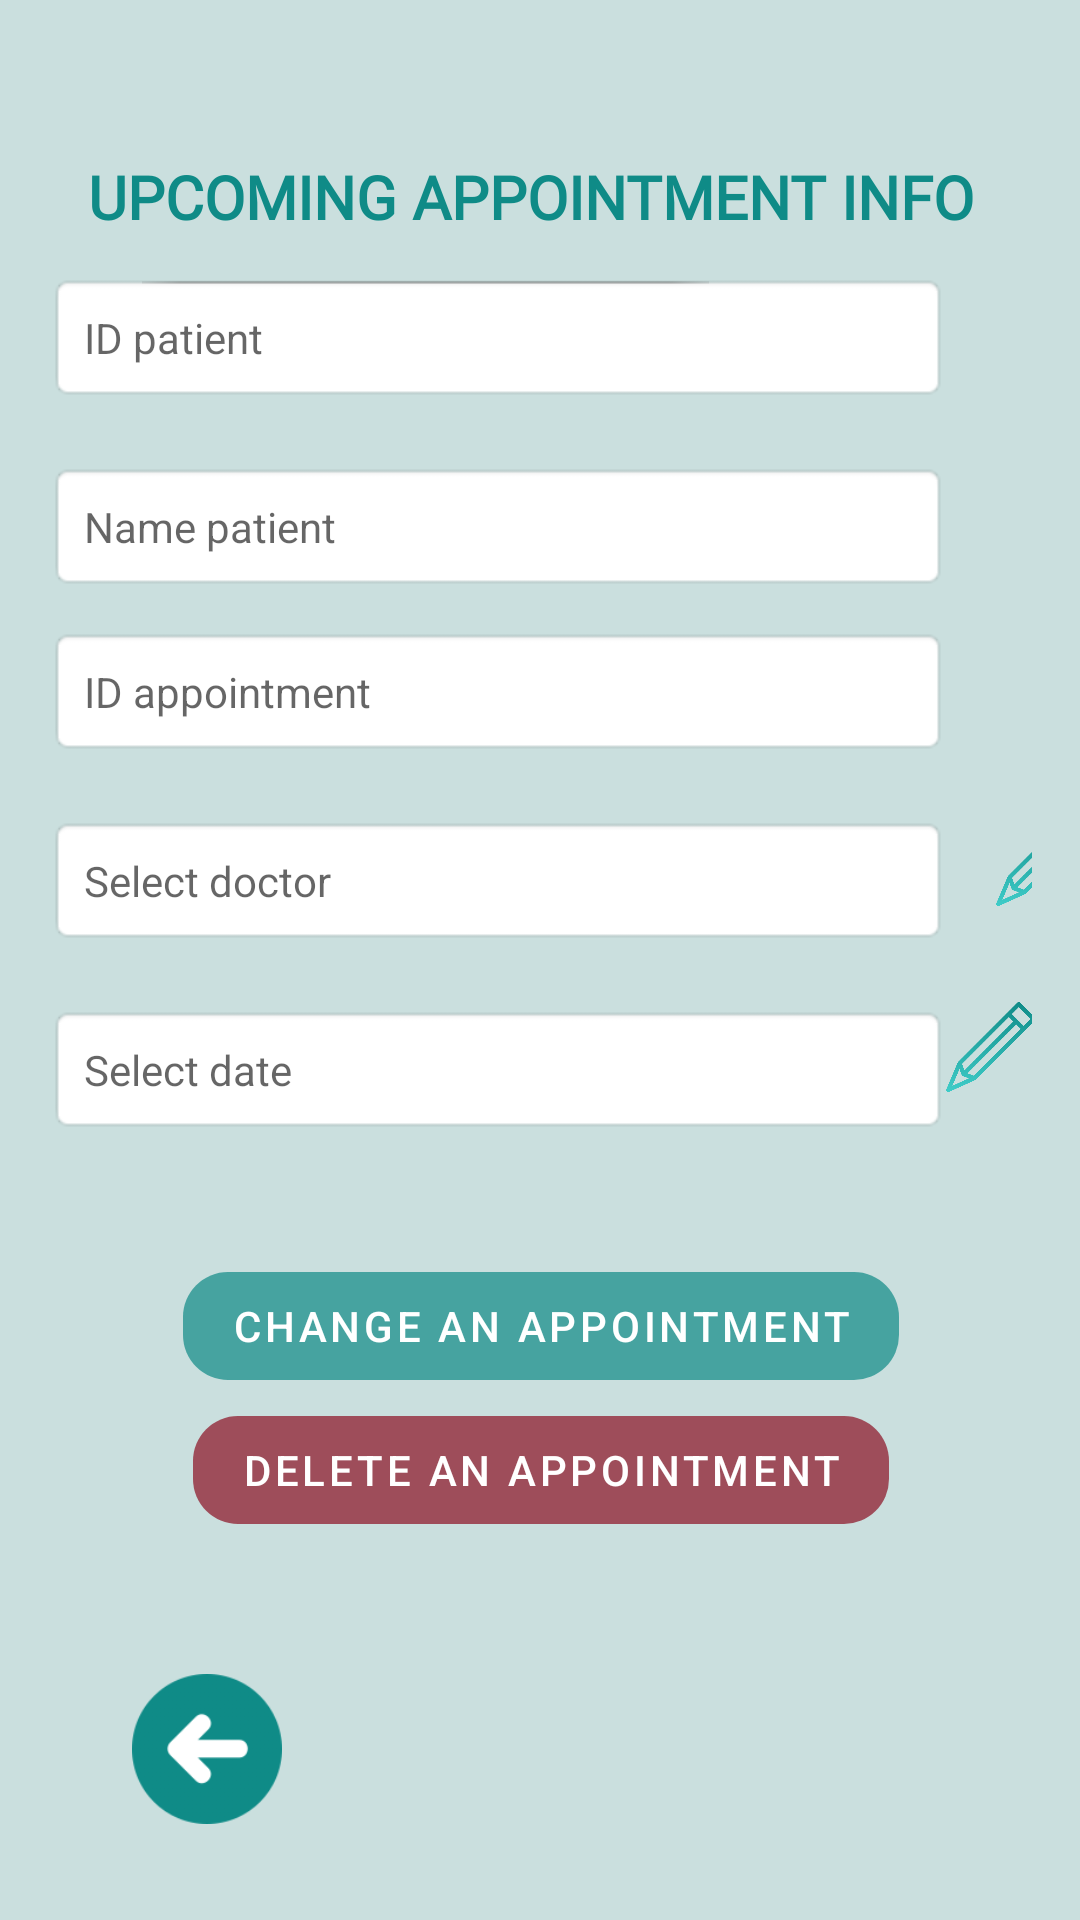

Icons on this 1080 x 1920 Android screen, each with its box as [x1, y1, x2, y2]:
previouspatient: [132, 1674, 282, 1824]
